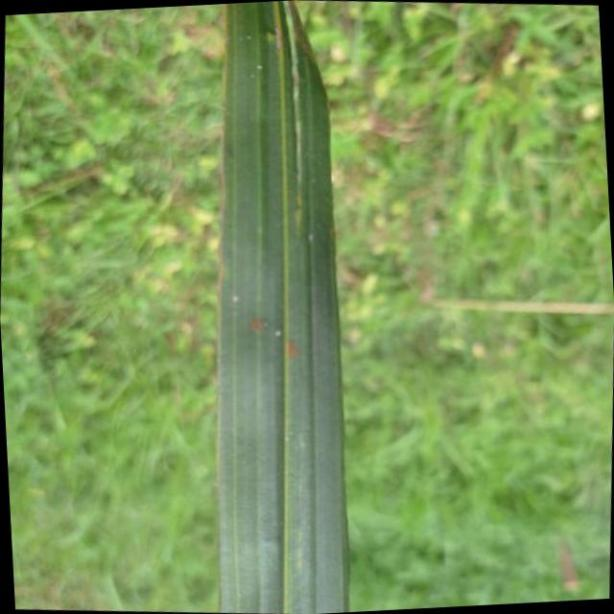Boron: (214, 0, 349, 614)
